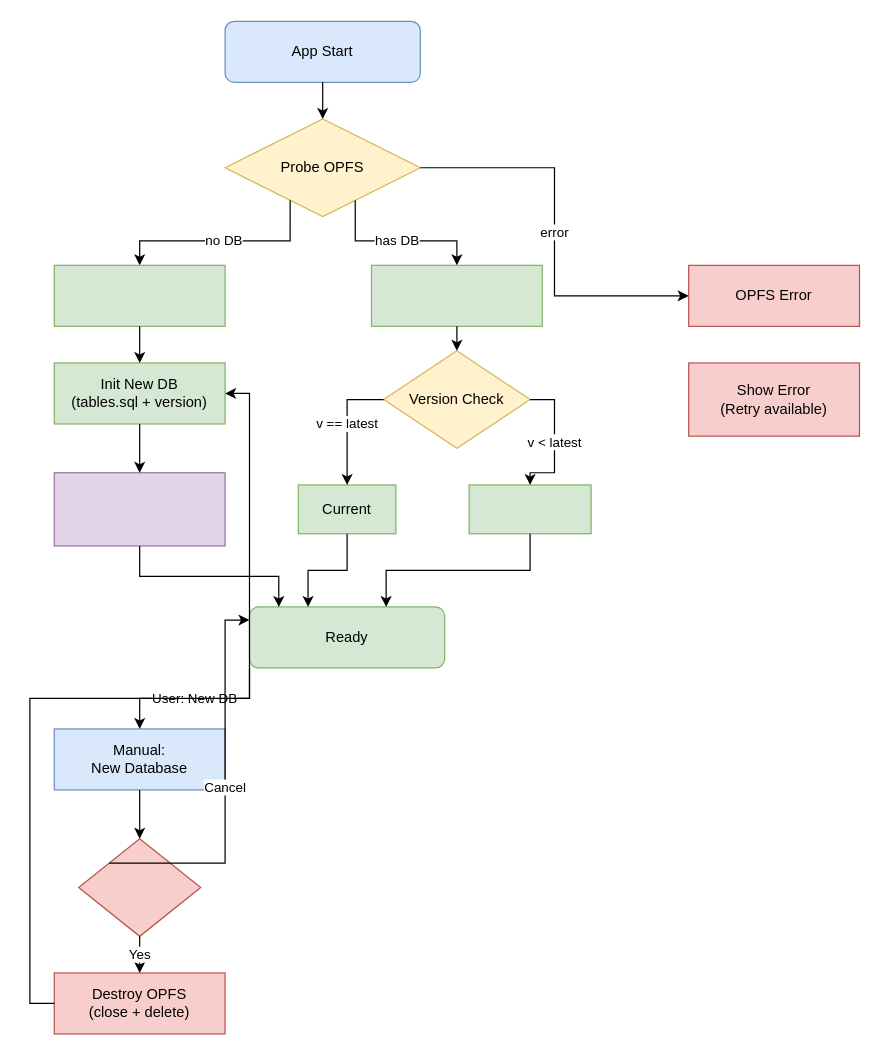
Some shapes in this 881 by 1055 pixel diagram are drawn without their labels. The centre of each missing label's shape, as x and y in pixels:
Confirm Destroy?: the point at 139,887
New DB Wizard (currency + username): the point at 139,509
OPFS Empty: the point at 139,295
OPFS Has DB: the point at 456,295
Run Incr. Upgrades: the point at 529,509
